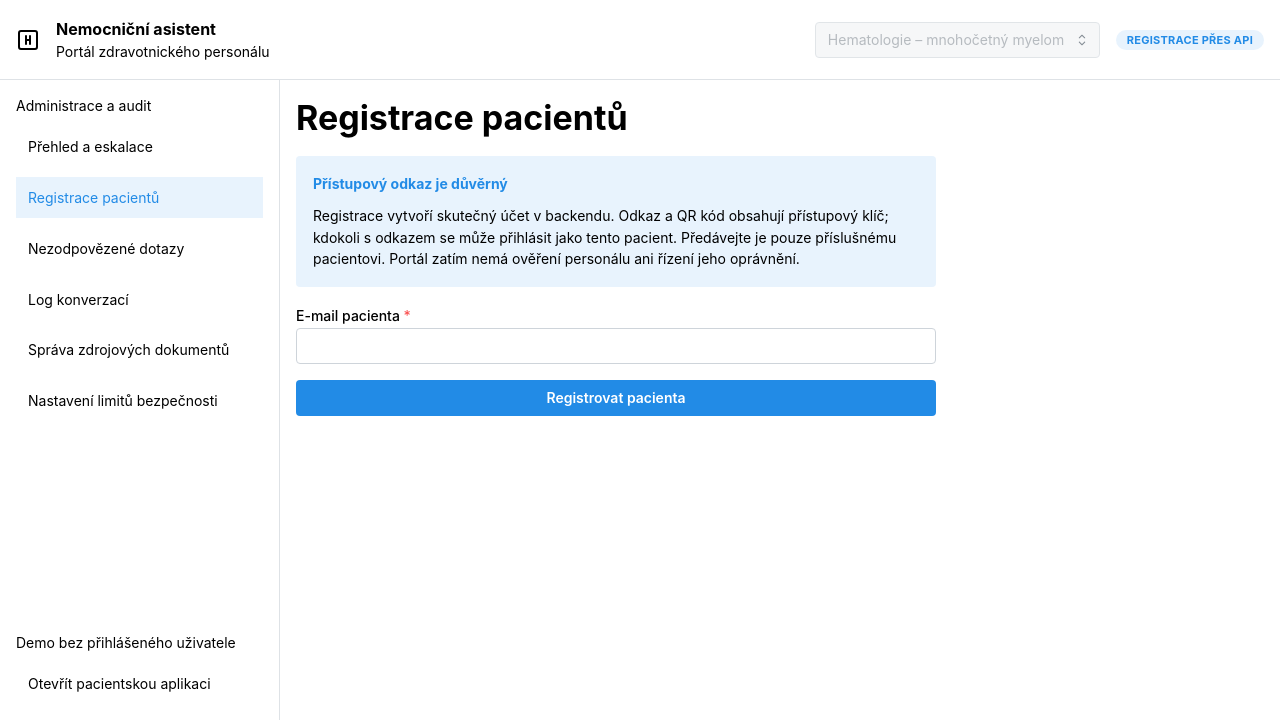
Test case: application routing › reports failed registration without generating a login link
Type "existing@example.com" into the field labelled "E-mail pacienta" at (616, 346), box x1=296 y1=328 x2=936 y2=364
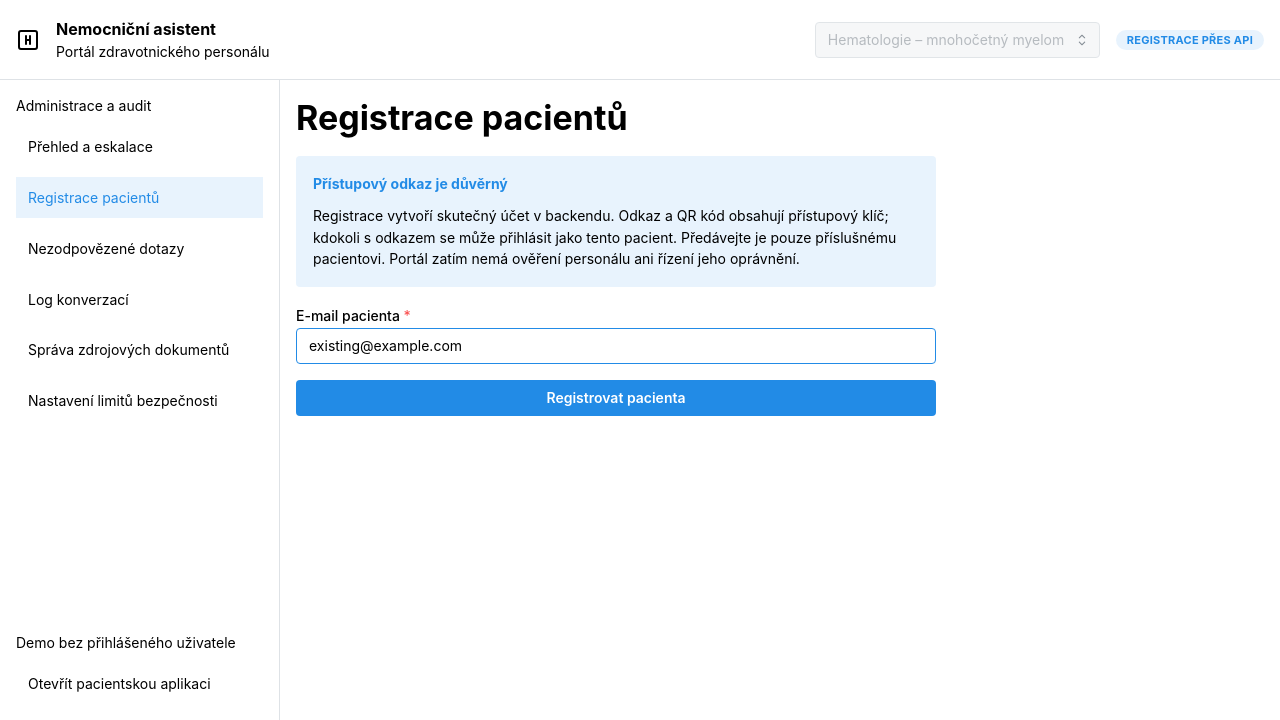
Click the button "Registrovat pacienta" at (616, 398), box x1=296 y1=380 x2=936 y2=416
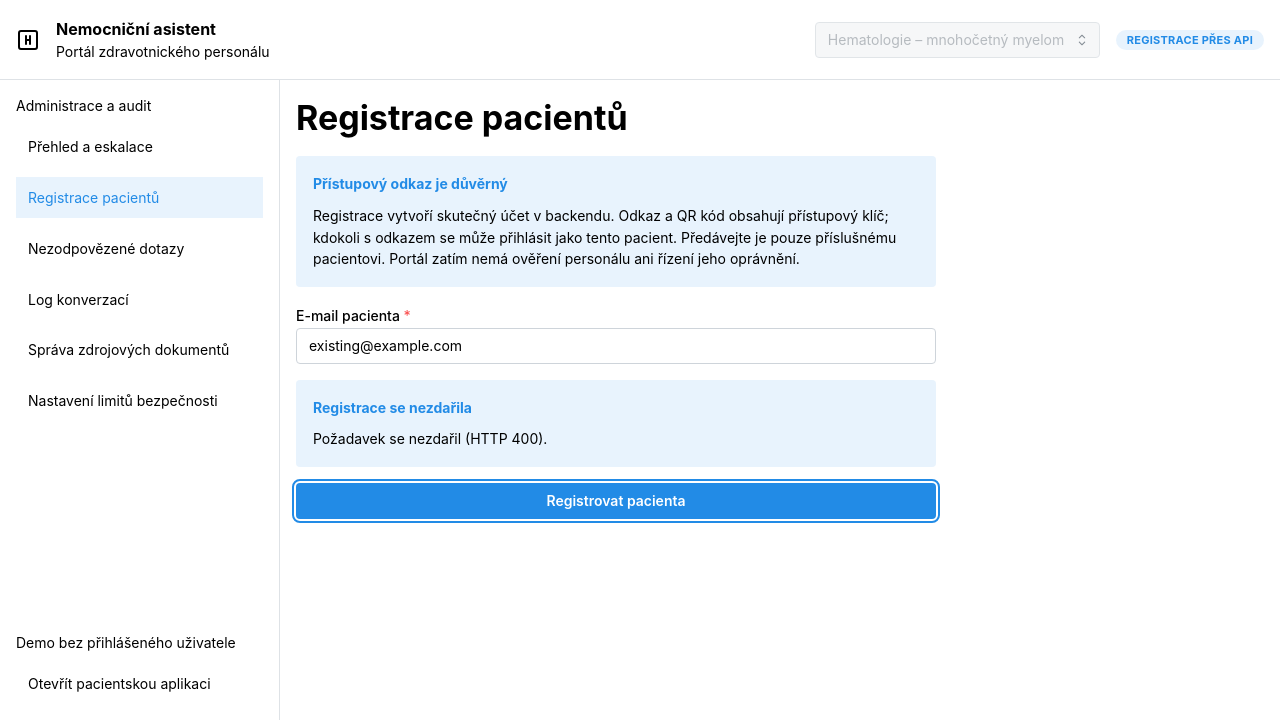
Result: the text "Registrace se nezdařila" is shown at x1=313 y1=397 x2=472 y2=418
Result: the text "Požadavek se nezdařil (HTTP 400)." is shown at x1=313 y1=430 x2=547 y2=447
